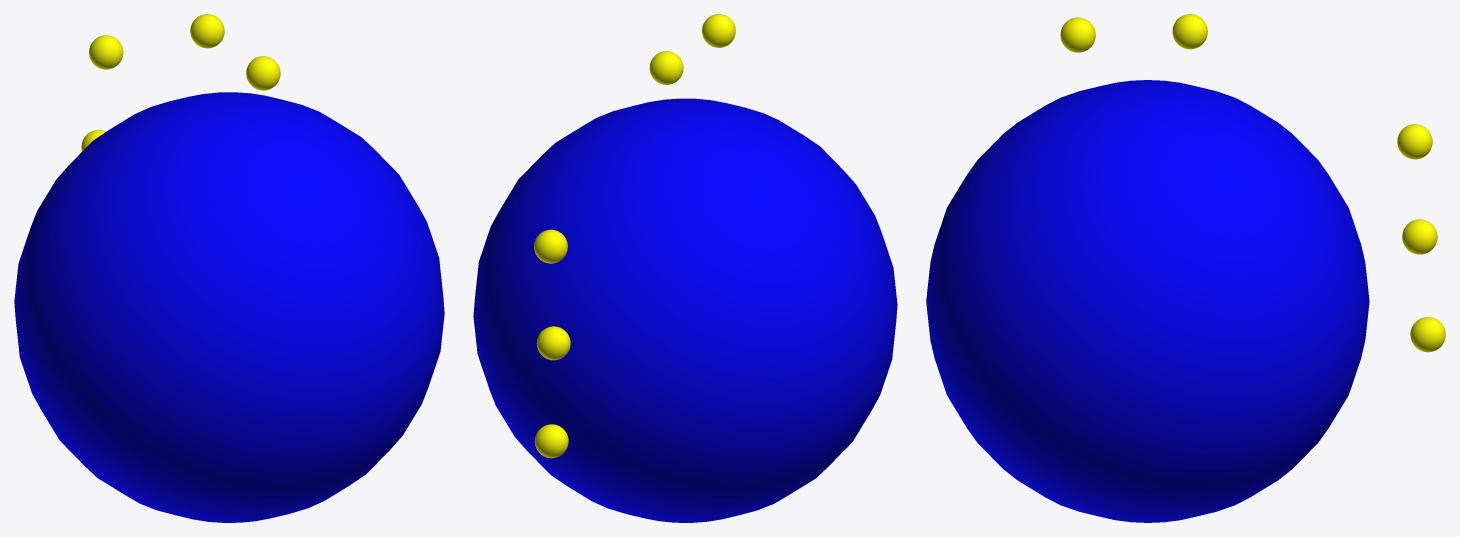
Rendered from N2_atom.fbx.
3 renders of one model, left to right at view 1: azimuth 30°, elevation 25°; view 2: azimuth 150°, elevation 25°; view 3: azimuth 270°, elevation 25°, orthographic. The views are drawn at different scales.
Visible parts, largest first — view 1: Sphere, Sphere.005, Sphere.001, Sphere.003; view 2: Sphere, Sphere.004, Sphere.002, Sphere.005, Sphere.001, Sphere.003; view 3: Sphere, Sphere.004, Sphere.005, Sphere.003, Sphere.001, Sphere.002.
Part boxes in pixels (bbox=[...]): Sphere: bbox=[14, 92, 444, 522]; Sphere.005: bbox=[246, 56, 280, 90]; Sphere.001: bbox=[190, 14, 224, 48]; Sphere.003: bbox=[89, 35, 123, 69]; Sphere: bbox=[473, 98, 897, 522]; Sphere.004: bbox=[536, 326, 570, 360]; Sphere.002: bbox=[534, 424, 568, 458]; Sphere.005: bbox=[702, 14, 735, 47]; Sphere.001: bbox=[649, 51, 683, 84]; Sphere.003: bbox=[534, 229, 567, 263]; Sphere: bbox=[926, 80, 1369, 522]; Sphere.004: bbox=[1402, 219, 1437, 254]; Sphere.005: bbox=[1060, 17, 1095, 52]; Sphere.003: bbox=[1397, 124, 1432, 159]; Sphere.001: bbox=[1172, 14, 1207, 49]; Sphere.002: bbox=[1410, 317, 1445, 352].
Bounding box in the file's own units: 200 × 242 × 234.
